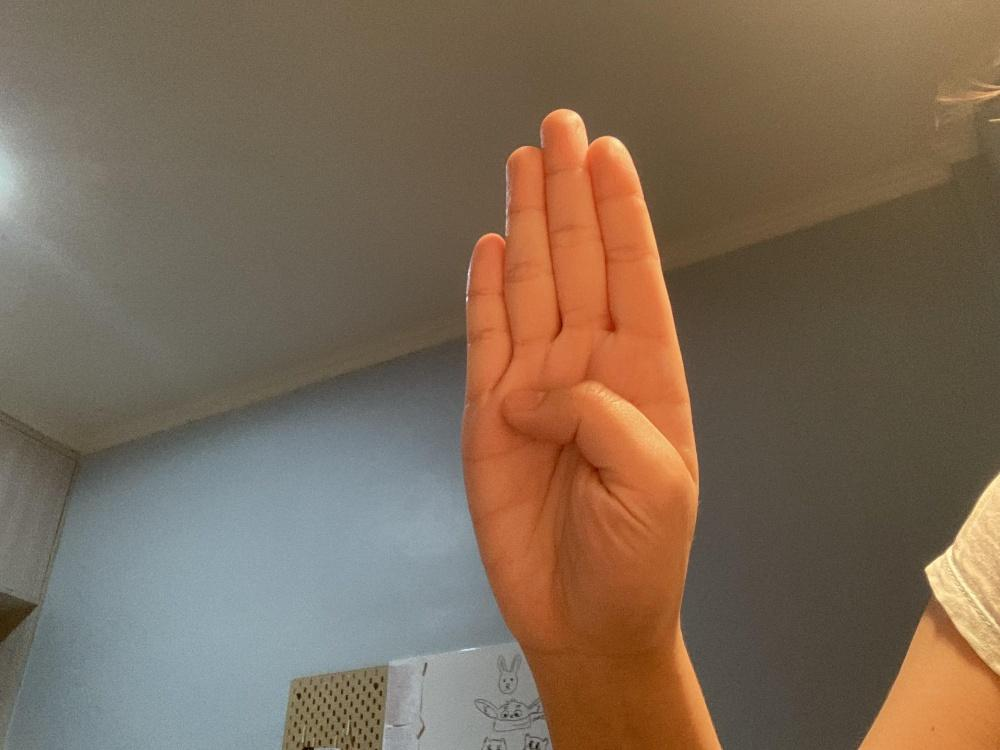b: (460, 106, 699, 654)
